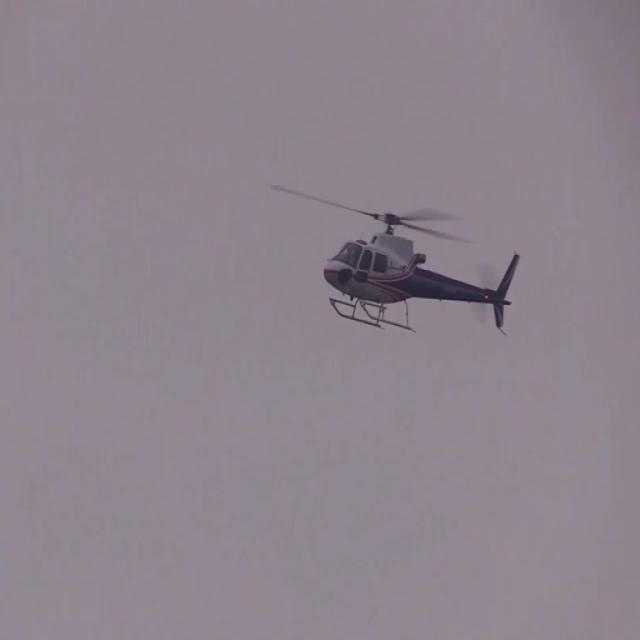Helicopter: (266, 163, 532, 352)
